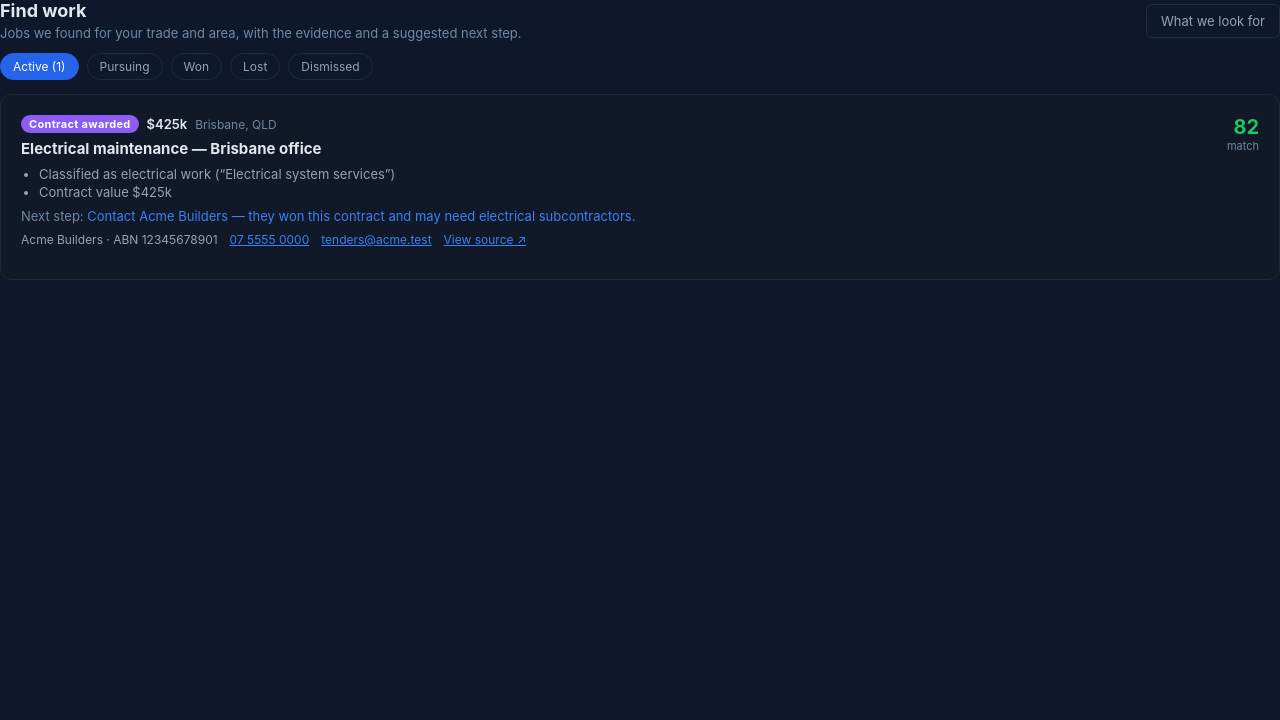
it: OpsFindWork › members cannot create job sites or change settings
Expected: the text "Electrical maintenance — Brisbane office" is shown, [21,139,322,158]
Click the button "What we look for".
click(1213, 20)  # box [1146,4,1279,38]
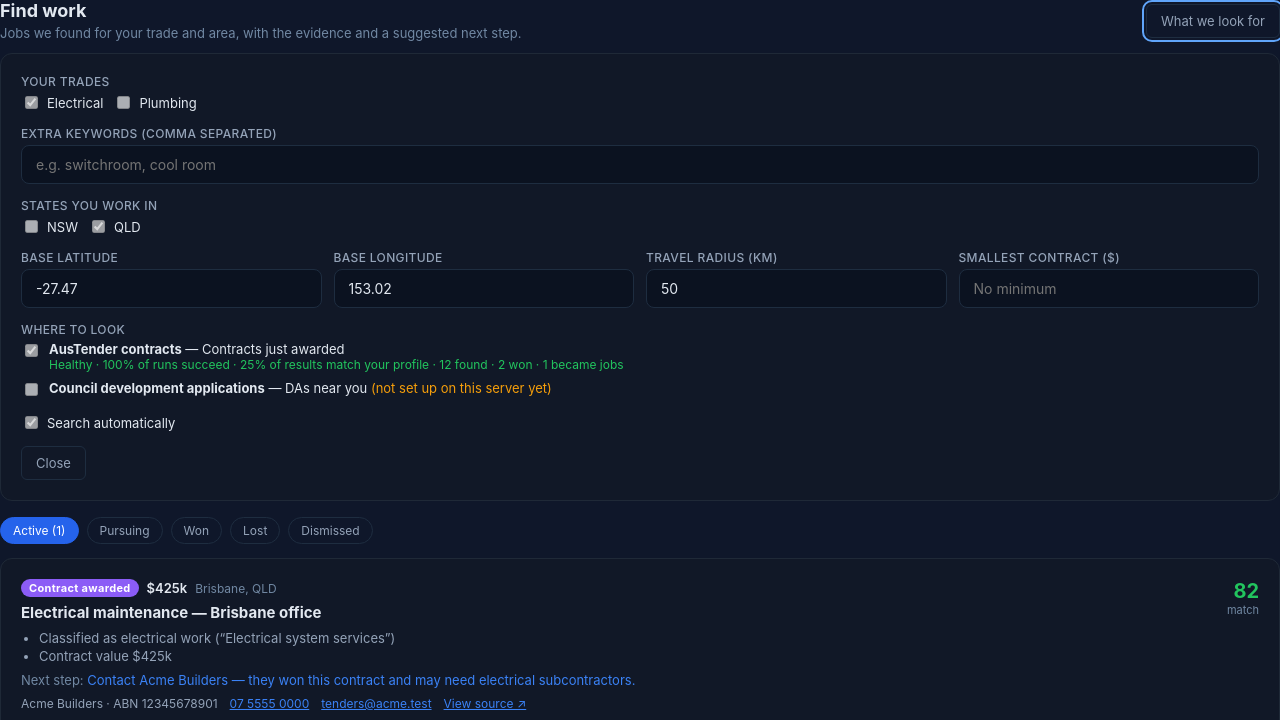
Expected: the checkbox labelled "Electrical" is disabled, [25,96,38,109]
